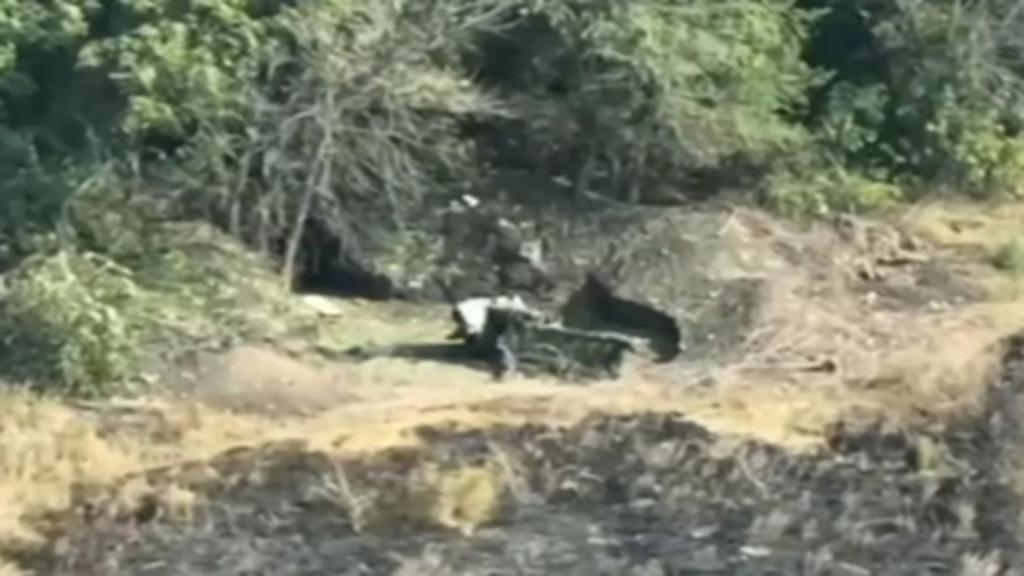ART: (448, 290, 644, 382)
